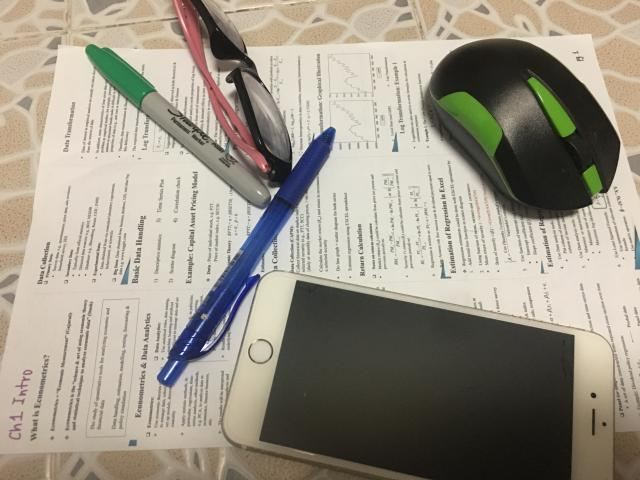Glasses: (174, 0, 292, 184)
Mobile phone: (222, 271, 614, 479)
Mouse: (430, 39, 620, 210)
Pen: (158, 128, 335, 386), (85, 45, 271, 206)
paper: (0, 34, 640, 456)
